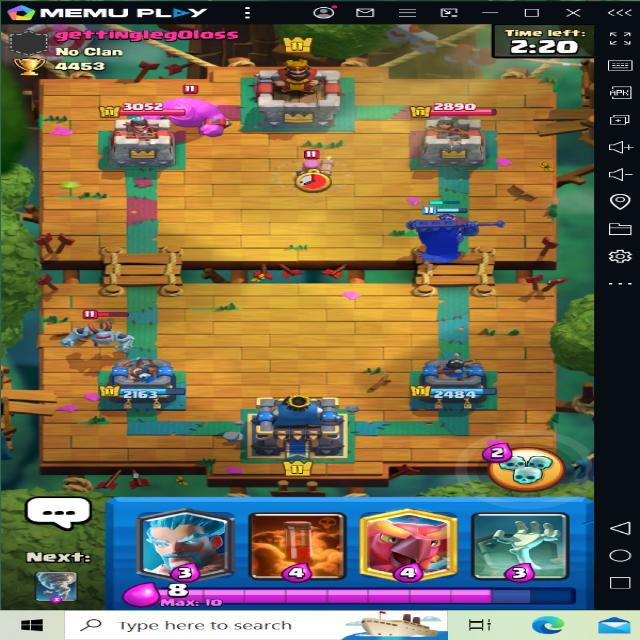Egolem: (137, 76, 230, 138)
Firecracker: (275, 147, 340, 190)
Megaminion: (60, 300, 145, 354)
